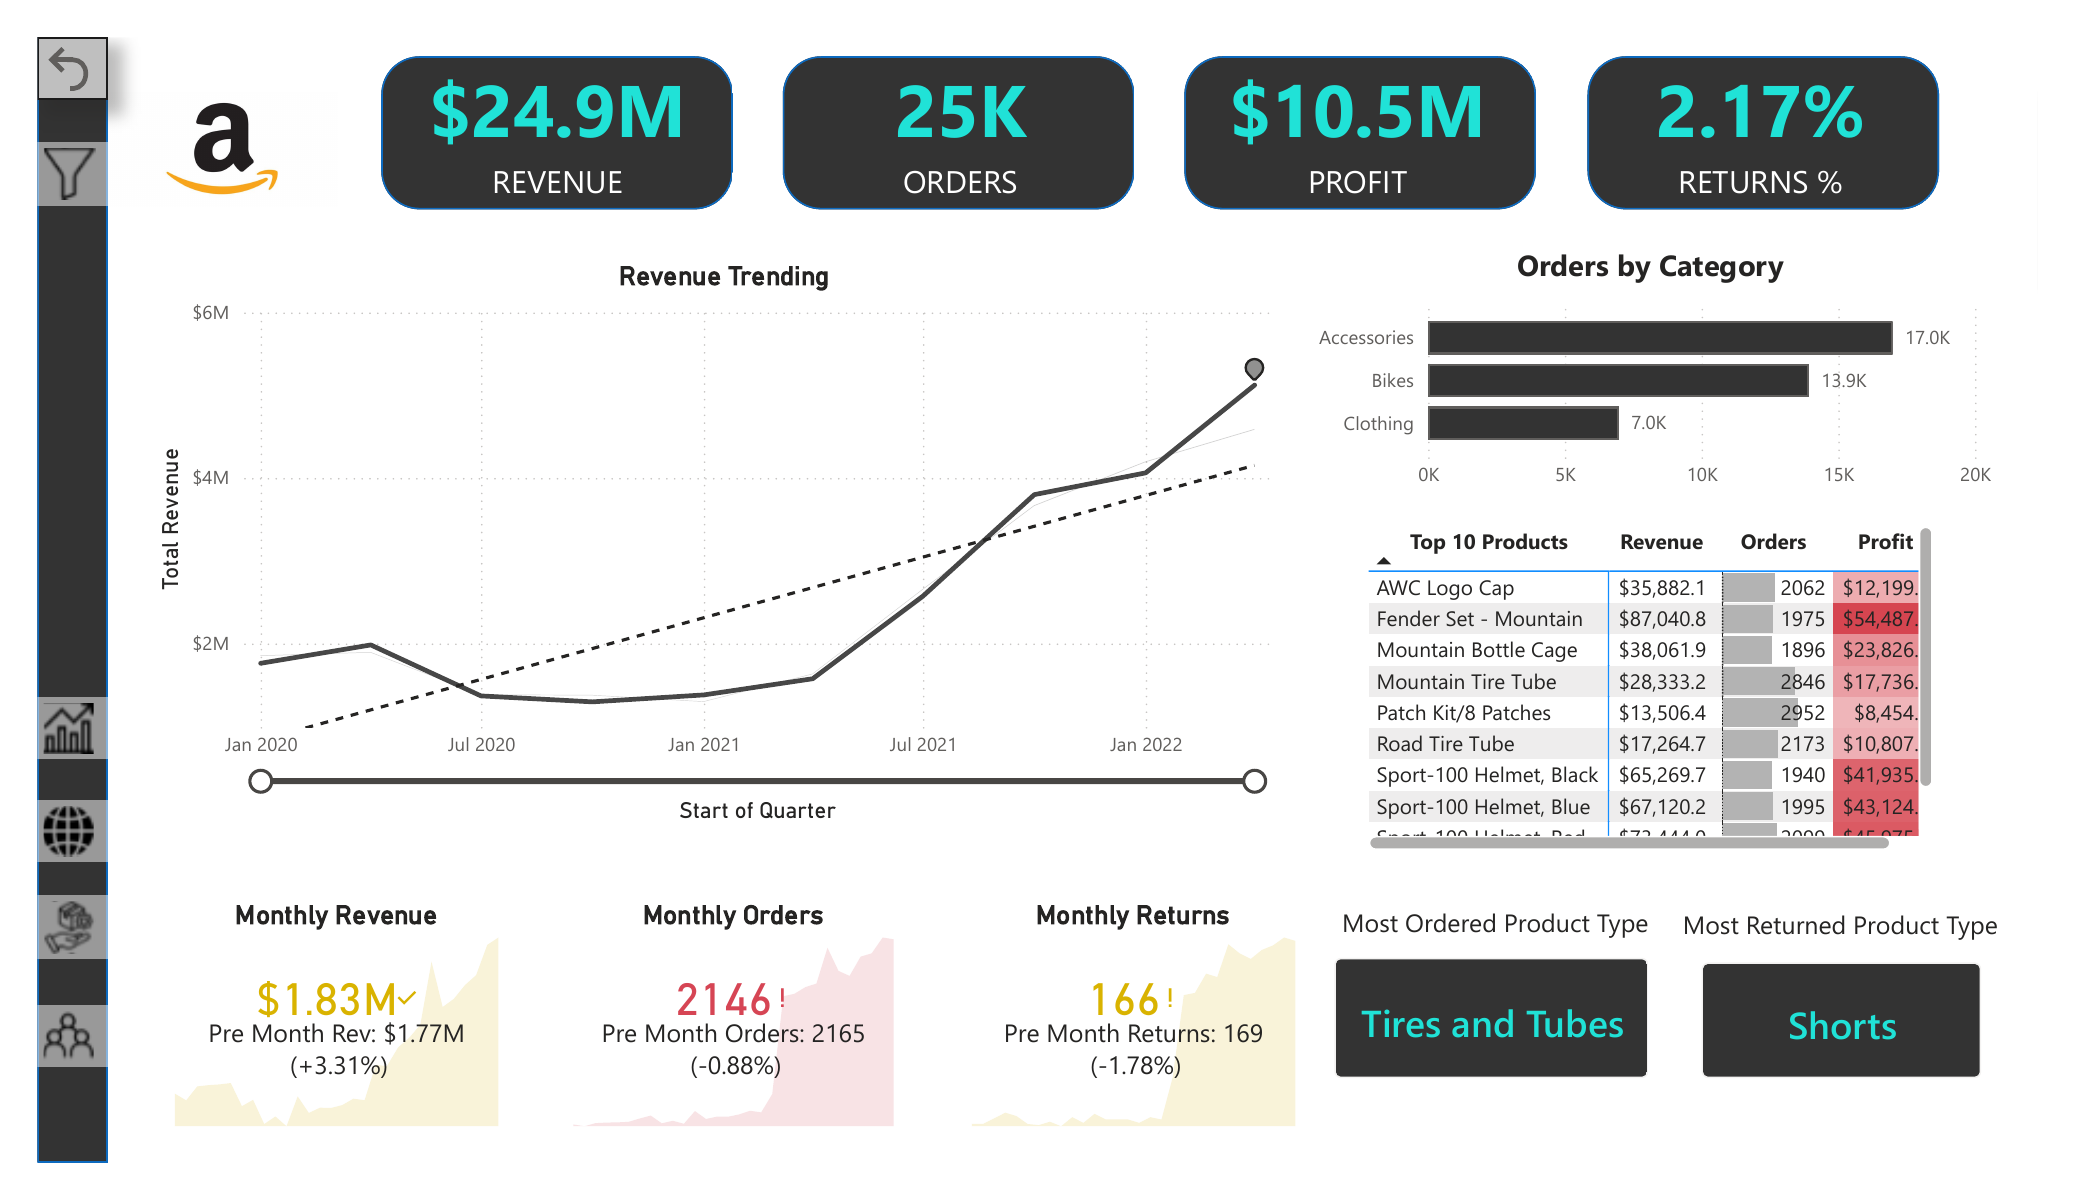

What the dashboard file says about the page in this screenshot:
{"tool":"powerbi","page":{"name":"Excutive Dashboard","canvas":[1280,720],"ordinal":0},"visuals":[{"type":"image","title":"Amazon Logo","box":[45,0,146.7,143.3],"z":0},{"type":"cardVisual","fields":{"Data":["Table Measures.Total Revenue"]},"box":[220,0,226,134],"z":0,"group":"g2"},{"type":"group","id":"g1","title":"KPI Cards","box":[220,12,996.7,98.3],"z":0,"group":"g3"},{"type":"shape","box":[220,12,225,98.3],"z":0,"group":"g1"},{"type":"actionButton","box":[0,421.9,45.2,40.4],"z":0,"group":"g4"},{"type":"shape","title":"Left nav Bar","box":[0,0,45,720],"z":1000},{"type":"group","id":"g2","title":"KPI Values ","box":[220,0,996,134],"z":1000,"group":"g3"},{"type":"cardVisual","fields":{"Data":["Table Measures.Returns rate"]},"box":[990,0,226,134],"z":1000,"group":"g2"},{"type":"shape","box":[477.2,12,225,98.3],"z":1000,"group":"g1"},{"type":"actionButton","box":[0,487.9,45.2,40.4],"z":1000,"group":"g4"},{"type":"group","id":"g3","title":"KPIs","box":[220,0,996.7,133.3],"z":2000},{"type":"cardVisual","fields":{"Data":["Table Measures.Total Profit"]},"box":[732,0,226,134],"z":2000,"group":"g2"},{"type":"shape","box":[734.4,12,225,98.3],"z":2000,"group":"g1"},{"type":"actionButton","box":[0,549.1,45.2,40.4],"z":2000,"group":"g4"},{"type":"cardVisual","fields":{"Data":["Table Measures.Total orders"]},"box":[478,0,226,134],"z":3000,"group":"g2"},{"type":"shape","box":[991.7,12,225,98.3],"z":3000,"group":"g1"},{"type":"lineChart","title":"Revenue Trending","fields":{"Category":["Calendar Lookup.Start of Quarter"],"Y":["Table Measures.Total Revenue"]},"box":[71.7,143.3,736.7,365],"z":3000},{"type":"actionButton","box":[0,618.8,45.2,40.4],"z":3000,"group":"g4"},{"type":"kpi","title":"Monthly Revenue","fields":{"Goal":["Table Measures.Previous Month Revenue"],"Indicator":["Table Measures.Total Revenue"],"TrendLine":["Calendar Lookup.Start of Month"]},"box":[83.3,551.7,216.7,150],"z":4000},{"type":"kpi","title":"Monthly Orders","fields":{"Goal":["Table Measures.Privious Month Orders"],"Indicator":["Table Measures.Total orders"],"TrendLine":["Calendar Lookup.Start of Month"]},"box":[338.3,551.7,215,150],"z":5000},{"type":"kpi","title":"Monthly Returns","fields":{"Goal":["Table Measures.Privious Month Returns"],"Indicator":["Table Measures.Total Returns"],"TrendLine":["Calendar Lookup.Start of Month"]},"box":[593.3,551.7,216.7,150],"z":6000},{"type":"clusteredBarChart","title":"Orders by Category","fields":{"Category":["Product Categories Lookup.CategoryName"],"Y":["Table Measures.Total orders"]},"box":[810,133.3,445,165],"z":7000},{"type":"pivotTable","fields":{"Rows":["Product Lookup.ProductName"],"Values":["Table Measures.Total Revenue","Table Measures.Total orders","Table Measures.Total Profit"]},"box":[846.7,308.3,371.7,216.7],"z":8000},{"type":"cardVisual","fields":{"Data":["Min(Product Subcategories Lookup.SubcategoryName)"]},"box":[818.3,576.7,225,101.7],"z":9000},{"type":"cardVisual","fields":{"Data":["Min(Product Subcategories Lookup.SubcategoryName)"]},"box":[1053.3,580,203.3,98.3],"z":10000},{"type":"textbox","box":[830.3,551.5,222.6,36.7],"z":11000},{"type":"textbox","box":[1048.3,551.7,213.3,36.7],"z":12000},{"type":"actionButton","box":[0,0,45.2,40.4],"z":13000},{"type":"group","id":"g4","title":"Custom Nevigation Buttons ","box":[0,421.9,45.2,237.2],"z":14000},{"type":"actionButton","box":[0,67.3,45.2,40.4],"z":15000}]}

Visuals, with their boxes on the page's 1280x720 design canvas (x1, y1, x2, y2). These are canvas units, not pixel positions in the 2075x1200 screenshot, which may show the page scaled, cropped or inside an application window:
"Amazon Logo" image: <region>45, 0, 192, 143</region>
cardVisual - Table Measures.Total Revenue: <region>220, 0, 446, 134</region>
"KPI Cards" group: <region>220, 12, 1217, 110</region>
shape: <region>220, 12, 445, 110</region>
actionButton: <region>0, 422, 45, 462</region>
"Left nav Bar" shape: <region>0, 0, 45, 720</region>
"KPI Values " group: <region>220, 0, 1216, 134</region>
cardVisual - Table Measures.Returns rate: <region>990, 0, 1216, 134</region>
shape: <region>477, 12, 702, 110</region>
actionButton: <region>0, 488, 45, 528</region>
"KPIs" group: <region>220, 0, 1217, 133</region>
cardVisual - Table Measures.Total Profit: <region>732, 0, 958, 134</region>
shape: <region>734, 12, 959, 110</region>
actionButton: <region>0, 549, 45, 590</region>
cardVisual - Table Measures.Total orders: <region>478, 0, 704, 134</region>
shape: <region>992, 12, 1217, 110</region>
"Revenue Trending" lineChart: <region>72, 143, 808, 508</region>
actionButton: <region>0, 619, 45, 659</region>
"Monthly Revenue" kpi: <region>83, 552, 300, 702</region>
"Monthly Orders" kpi: <region>338, 552, 553, 702</region>
"Monthly Returns" kpi: <region>593, 552, 810, 702</region>
"Orders by Category" clusteredBarChart: <region>810, 133, 1255, 298</region>
pivotTable - Product Lookup.ProductName x Table Measures.Total Revenue: <region>847, 308, 1218, 525</region>
cardVisual - Min(Product Subcategories Lookup.SubcategoryName): <region>818, 577, 1043, 678</region>
cardVisual - Min(Product Subcategories Lookup.SubcategoryName): <region>1053, 580, 1257, 678</region>
textbox: <region>830, 552, 1053, 588</region>
textbox: <region>1048, 552, 1262, 588</region>
actionButton: <region>0, 0, 45, 40</region>
"Custom Nevigation Buttons " group: <region>0, 422, 45, 659</region>
actionButton: <region>0, 67, 45, 108</region>
